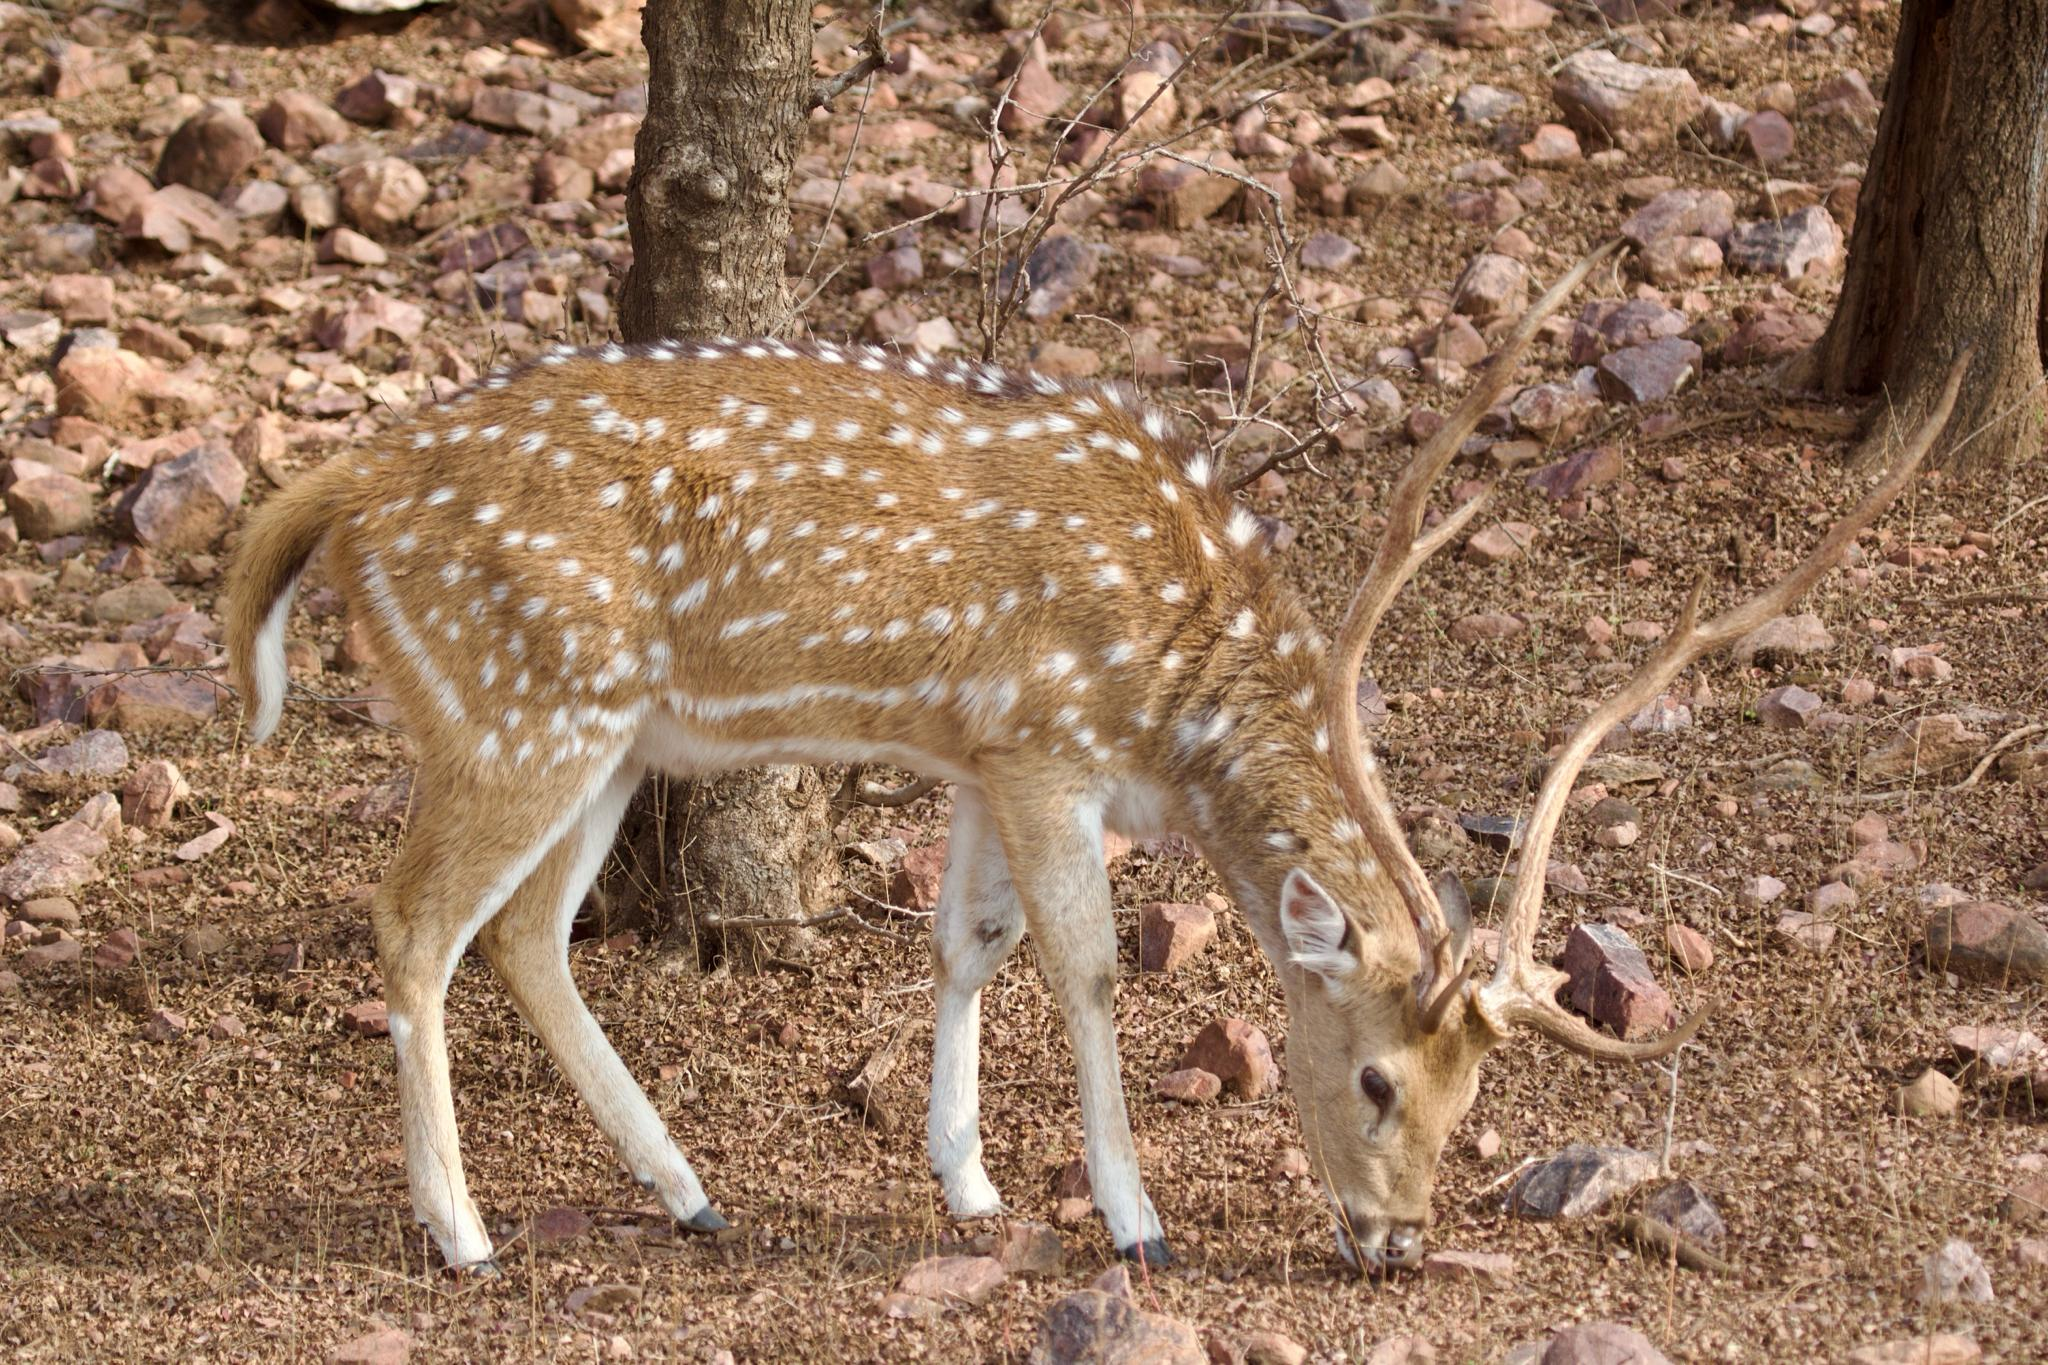Deer: (228, 321, 1967, 1261)
